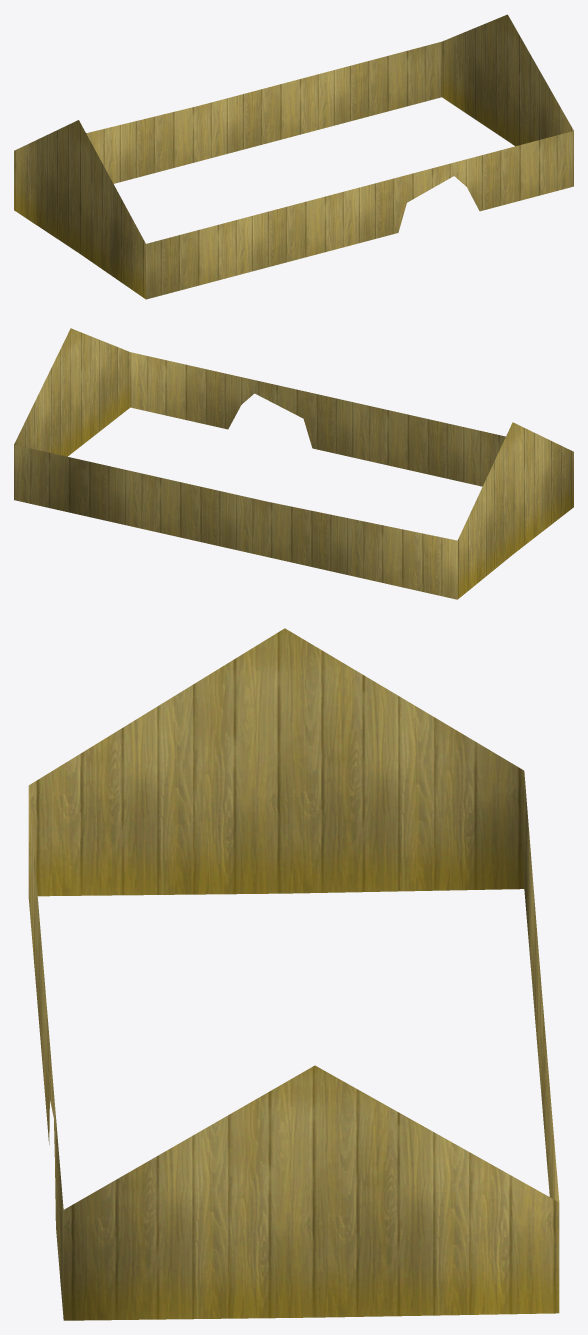
File: HTOWN01_GREENDRAGWALLS.fbx
3 views of the same model, one above another, from view 1: azimuth 30°, elevation 25°; view 2: azimuth 150°, elevation 25°; view 3: azimuth 270°, elevation 25° (orthographic). The views are drawn at different scales.
Parts seen in each view (by area): view 1: HTOWN01_GREENDRAGWALLS; view 2: HTOWN01_GREENDRAGWALLS; view 3: HTOWN01_GREENDRAGWALLS.
Part boxes in pixels (x1,y1,x2,y2): HTOWN01_GREENDRAGWALLS: (14, 14, 573, 299); HTOWN01_GREENDRAGWALLS: (14, 328, 573, 599); HTOWN01_GREENDRAGWALLS: (28, 628, 559, 1320).
Bounding box in the file's own units: 93052 × 26678 × 48357.
1 material, 1 textured.
